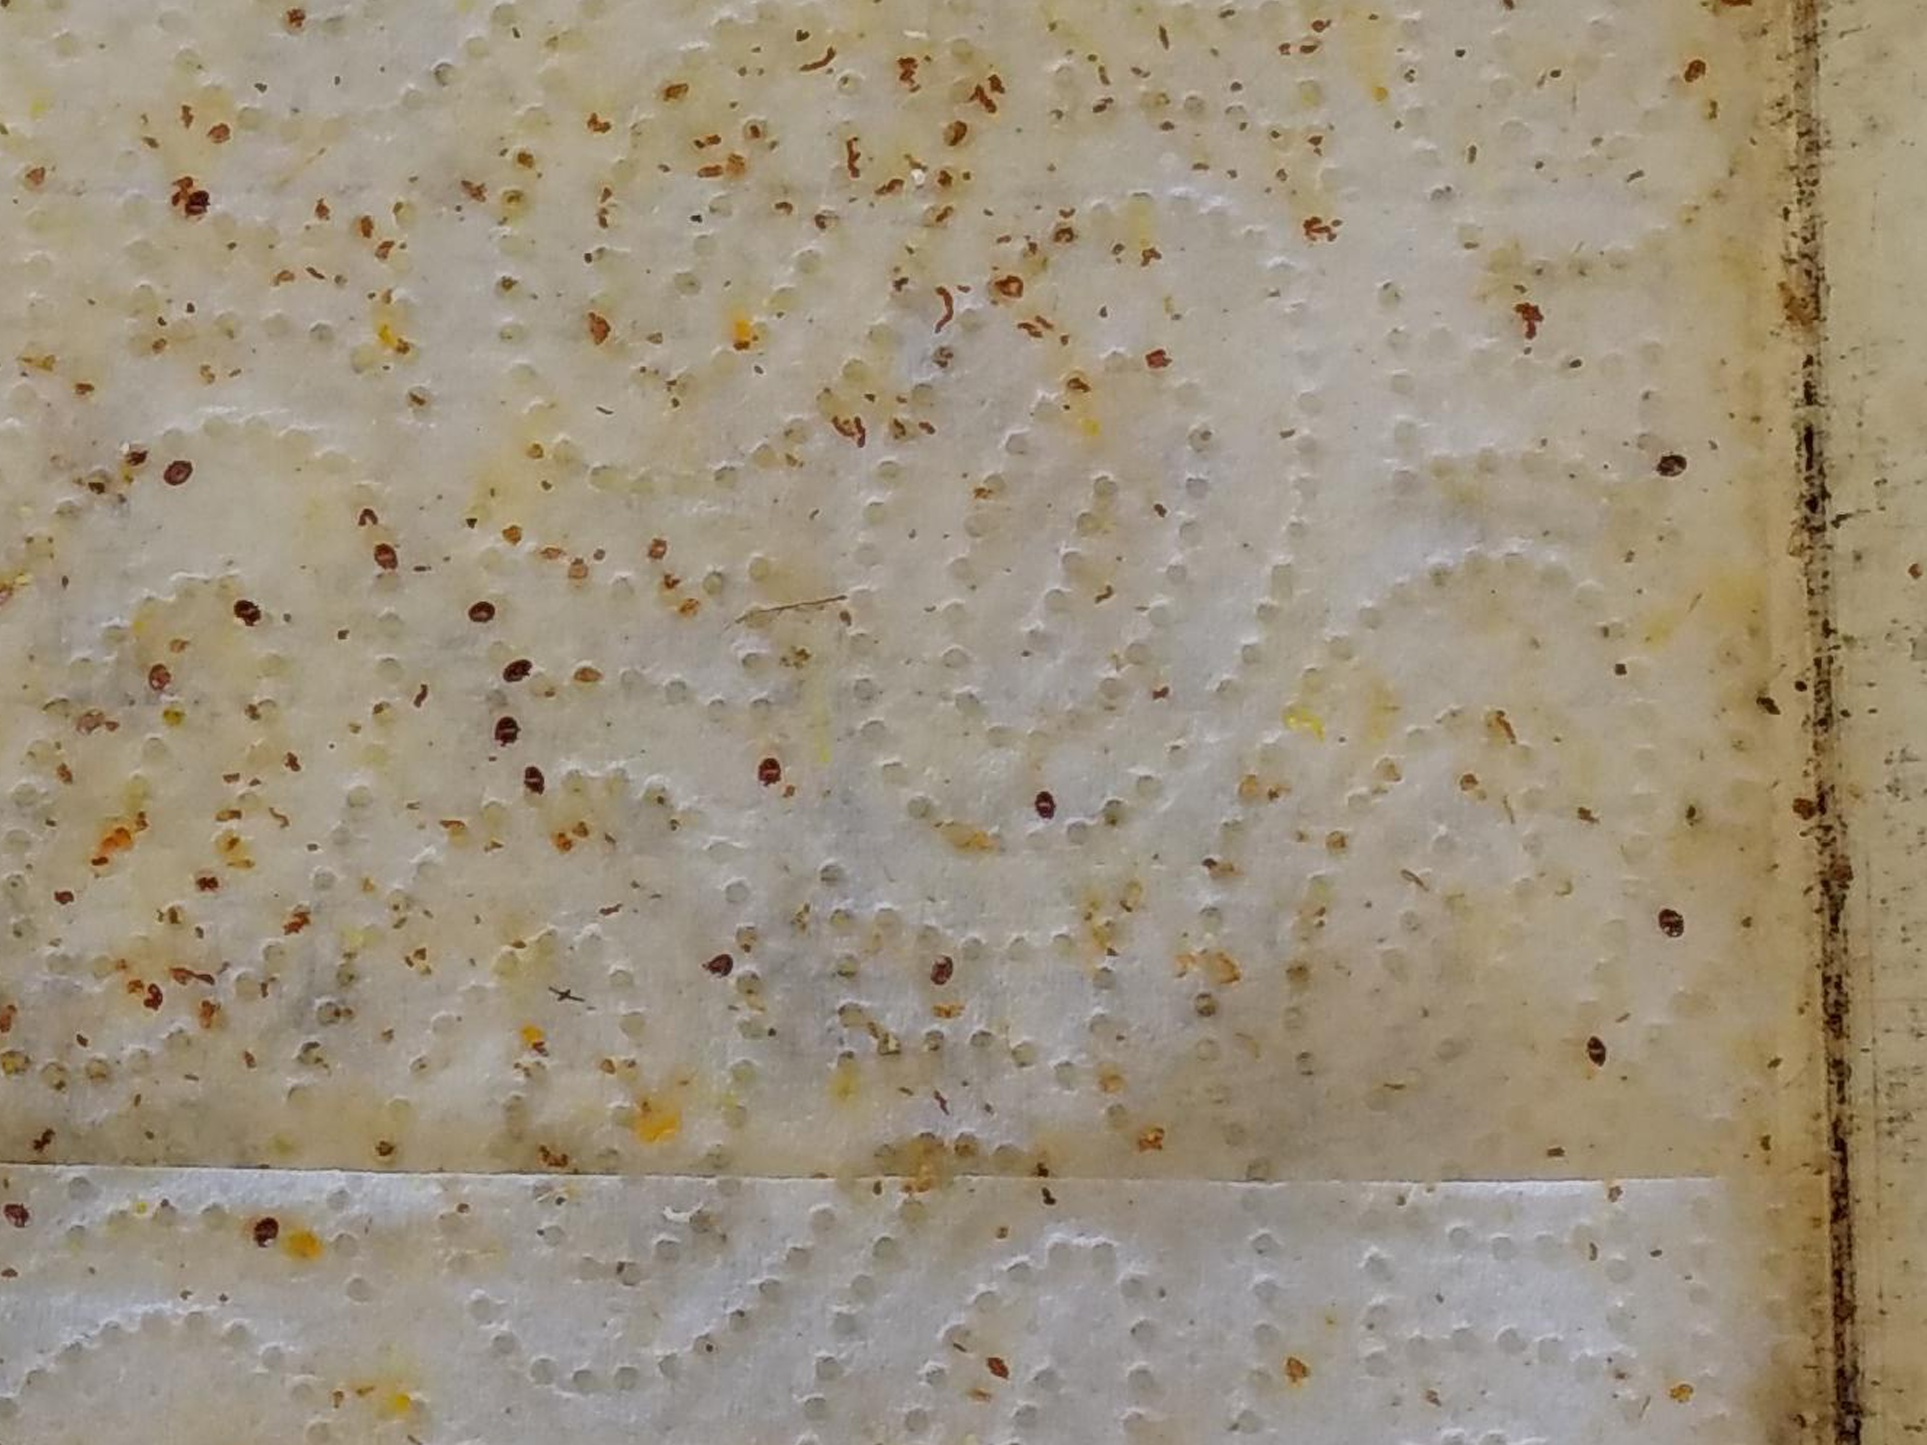Varroa: (1655, 912, 1692, 949), (1569, 1037, 1607, 1072), (1029, 789, 1064, 824), (1652, 451, 1686, 486), (232, 595, 264, 630), (929, 956, 960, 991), (754, 754, 786, 789), (159, 455, 191, 489), (461, 595, 493, 628), (372, 542, 404, 575), (146, 660, 176, 692), (706, 950, 737, 981), (489, 716, 519, 748), (250, 1216, 279, 1246), (184, 188, 212, 217), (501, 656, 530, 685), (522, 763, 548, 791)
